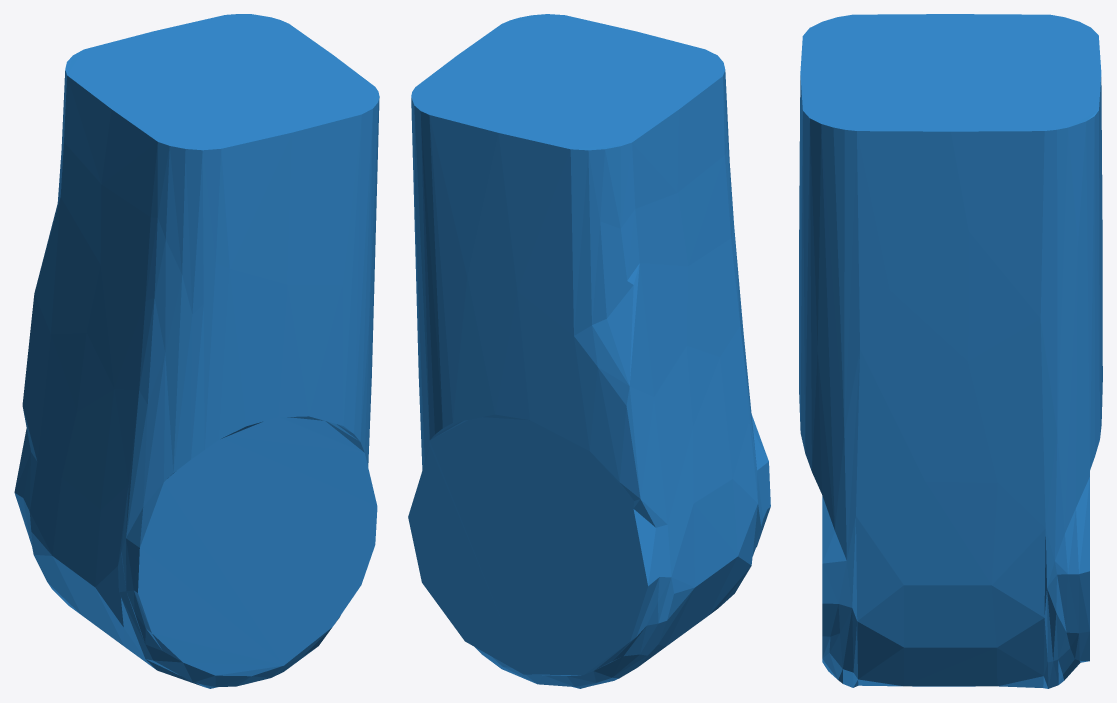
The model's file is DensoVS068Link3.dae.
3 renders of one model, left to right at view 1: azimuth 30°, elevation 25°; view 2: azimuth 150°, elevation 25°; view 3: azimuth 270°, elevation 25°, orthographic. The views are drawn at different scales.
Parts seen in each view (by area): view 1: DensoVS068Link3; view 2: DensoVS068Link3; view 3: DensoVS068Link3.
Part boxes in pixels (x1,y1,x2,y2): DensoVS068Link3: (14, 14, 379, 688); DensoVS068Link3: (408, 14, 770, 688); DensoVS068Link3: (799, 14, 1102, 688).
Bounding box in the file's own units: 0.1076 × 0.1004 × 0.2237.
